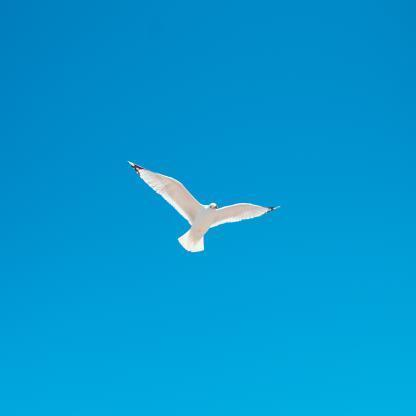bird: (127, 161, 280, 252)
